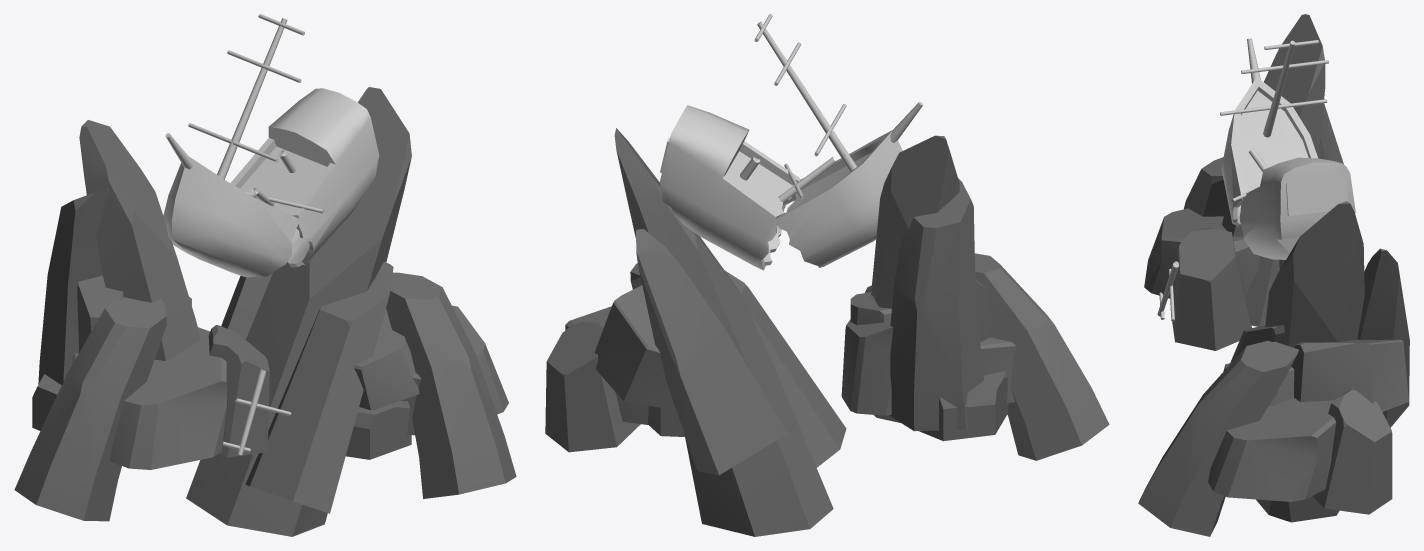
The model's file is Zone3_Shipwreck.fbx.
3 views of the same model, side by side, from view 1: azimuth 30°, elevation 25°; view 2: azimuth 150°, elevation 25°; view 3: azimuth 270°, elevation 25° (orthographic). The views are drawn at different scales.
Parts seen in each view (by area): view 1: rock_huge_16, rock_large_17, rock_huge_17, rock_large_18, shipwreck_half7, shipwreck_half8, shipwreck_mast5; view 2: rock_huge_16, rock_huge_17, rock_large_17, shipwreck_half7, shipwreck_half8, rock_large_18, shipwreck_mast7; view 3: rock_large_18, rock_huge_16, rock_large_17, shipwreck_half8, shipwreck_half7, rock_huge_17, shipwreck_mast5.
Part boxes in pixels (x1,y1,x2,y2): rock_huge_16: [186, 87, 419, 536]; rock_large_17: [14, 297, 269, 521]; rock_huge_17: [38, 120, 200, 385]; rock_large_18: [346, 272, 516, 498]; shipwreck_half7: [230, 88, 379, 267]; shipwreck_half8: [163, 14, 304, 277]; shipwreck_mast5: [223, 368, 291, 455]; rock_huge_16: [594, 128, 846, 536]; rock_huge_17: [841, 135, 991, 431]; rock_large_17: [850, 253, 1109, 460]; shipwreck_half7: [659, 105, 799, 270]; shipwreck_half8: [754, 14, 922, 267]; rock_large_18: [545, 263, 685, 452]; shipwreck_mast7: [778, 157, 836, 203]; rock_large_18: [1138, 340, 1392, 536]; rock_huge_16: [1223, 201, 1409, 522]; rock_large_17: [1144, 157, 1285, 350]; shipwreck_half8: [1220, 38, 1328, 227]; shipwreck_half7: [1239, 157, 1355, 259]; rock_huge_17: [1222, 14, 1343, 326]; shipwreck_mast5: [1157, 261, 1179, 321].
Bounding box in the file's own units: 9022 × 8700 × 4631.
